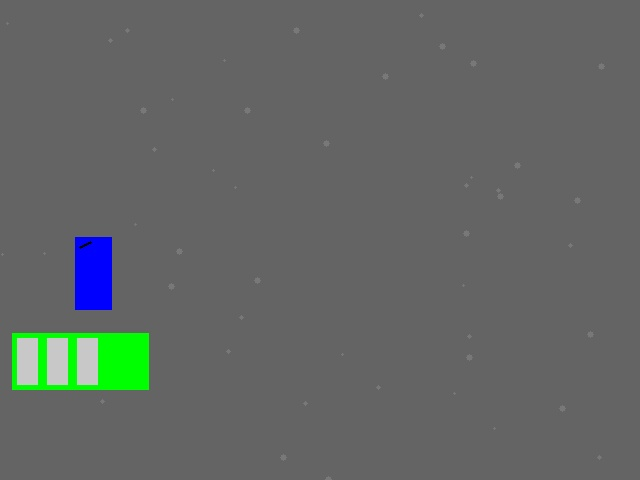bus: (12, 333, 148, 389)
motorcycle: (75, 237, 111, 309)
